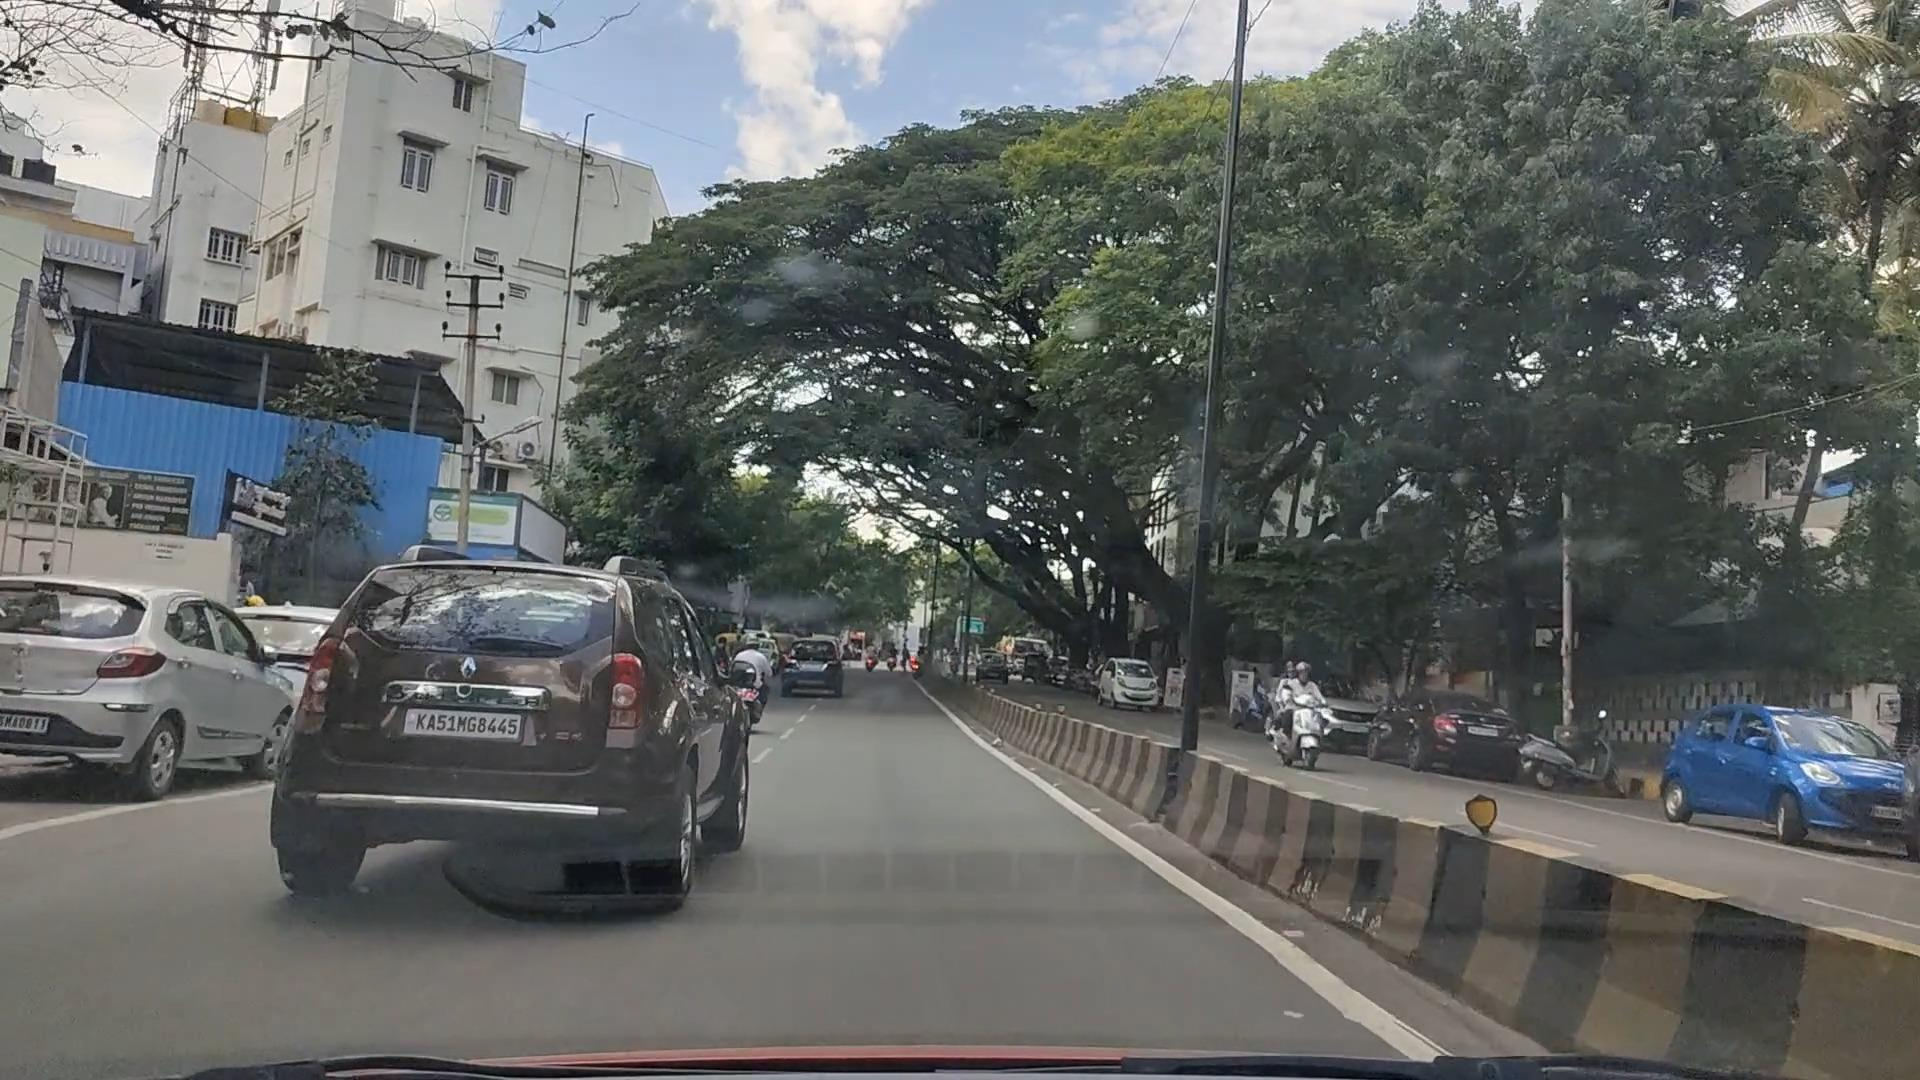LMV: (281, 530, 761, 928)
